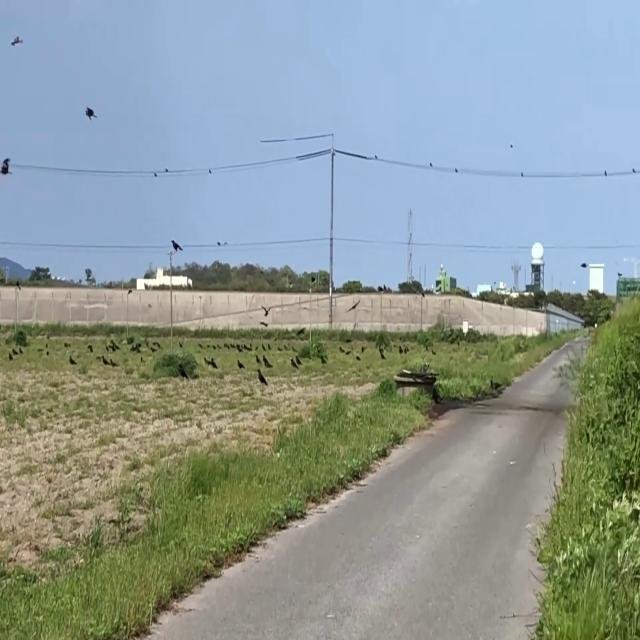bird: (1, 149, 11, 181), (85, 99, 96, 125), (12, 29, 22, 53), (171, 235, 181, 258), (258, 363, 266, 391), (292, 355, 296, 374), (238, 355, 242, 373), (399, 342, 403, 357)
